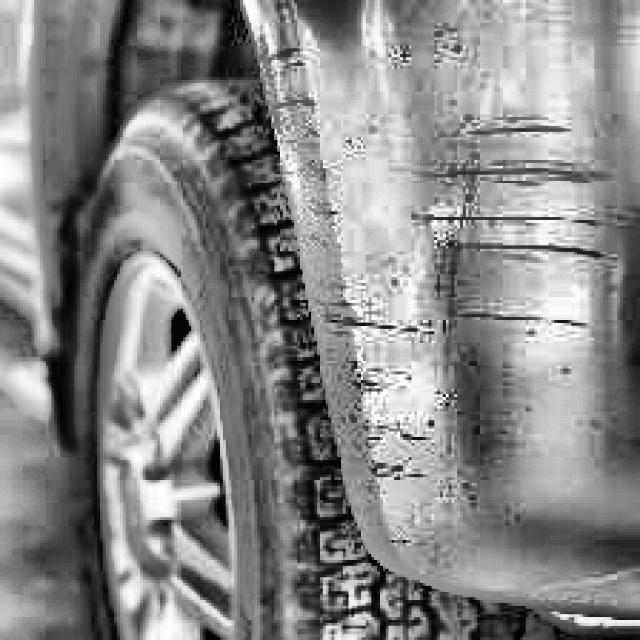bumper_scratch: (265, 37, 611, 565)
